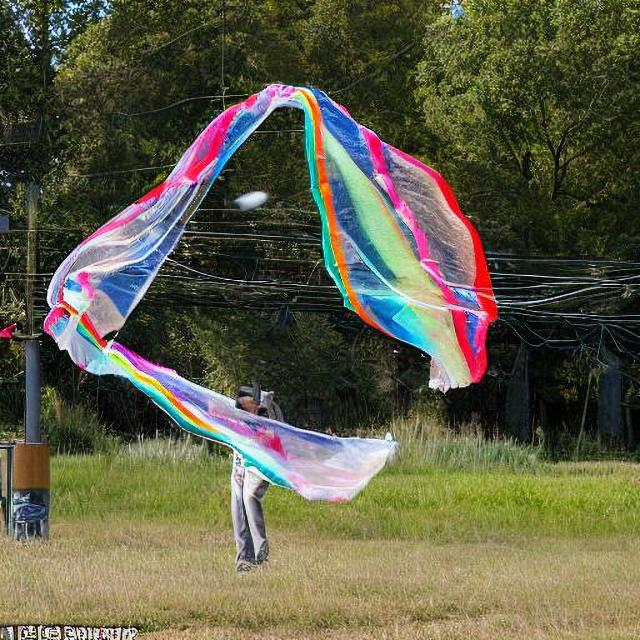floating object: (53, 93, 515, 494)
